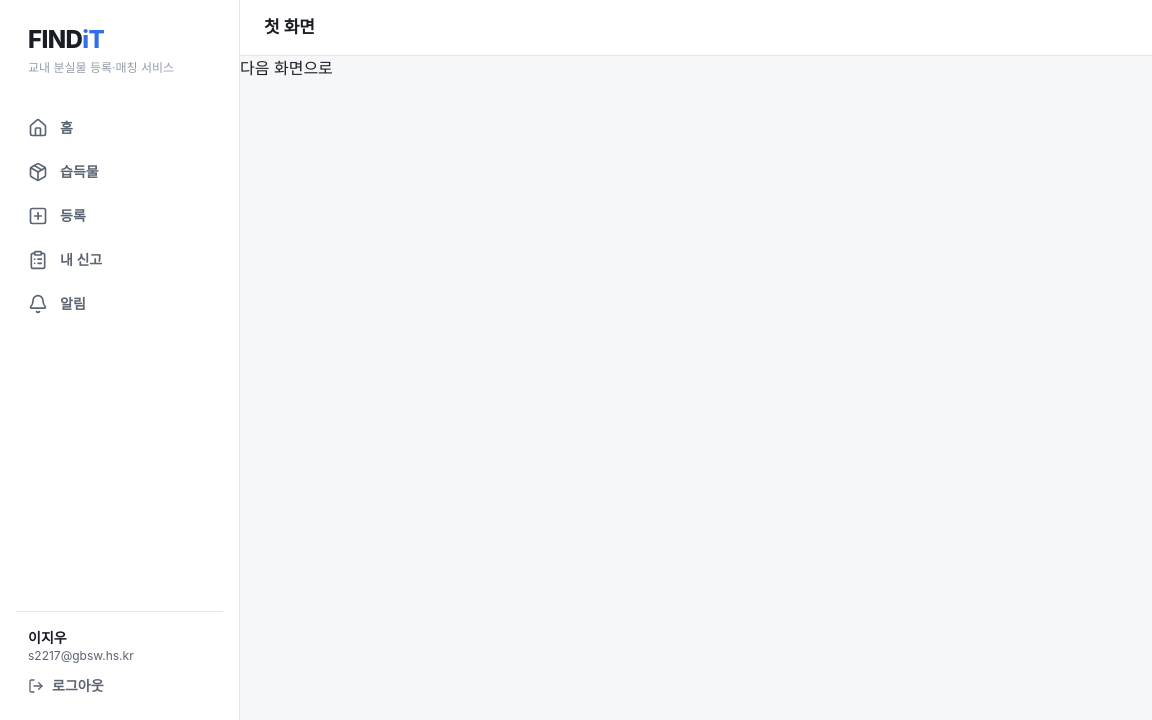
접근성 › 화면이 바뀌면 본문으로 초점을 옮기고 문서 제목을 바꾼다
This screenshot has width=1152, height=720.
Expected: the heading "첫 화면" is shown, top-left (264, 17), bottom-right (315, 37)
Click the link "다음 화면으로".
click(286, 68)  # box top-left (240, 58), bottom-right (333, 78)
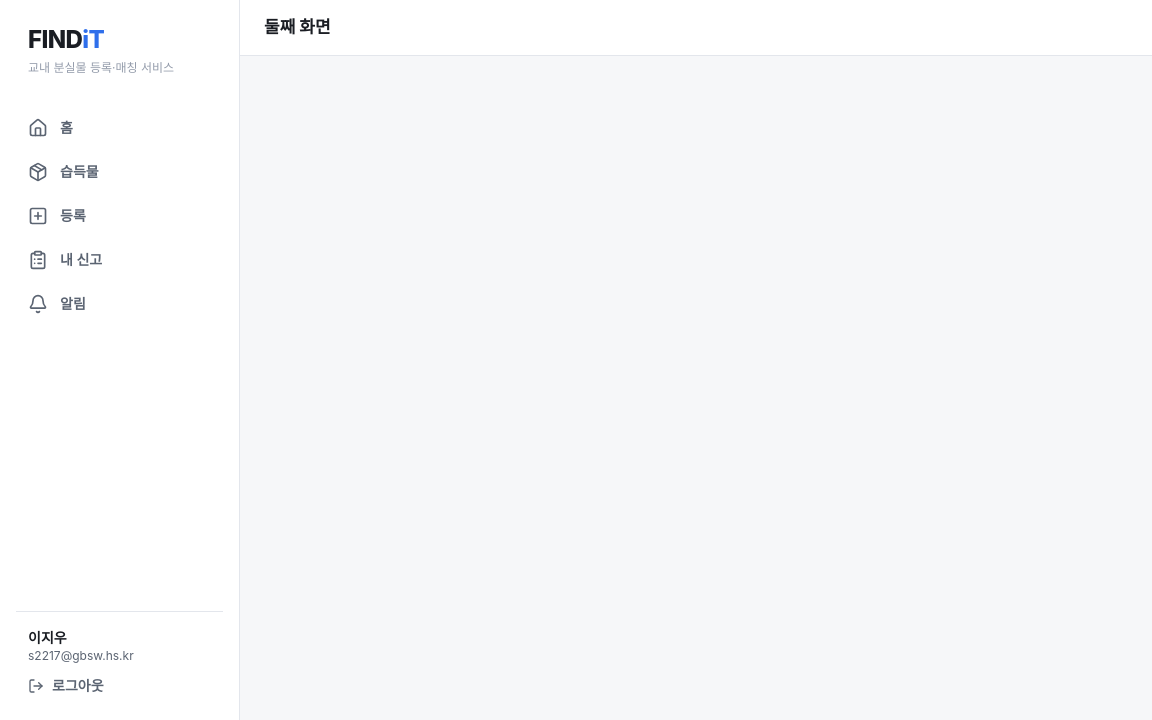
Expected: the heading "둘째 화면" is shown, top-left (264, 17), bottom-right (331, 37)
